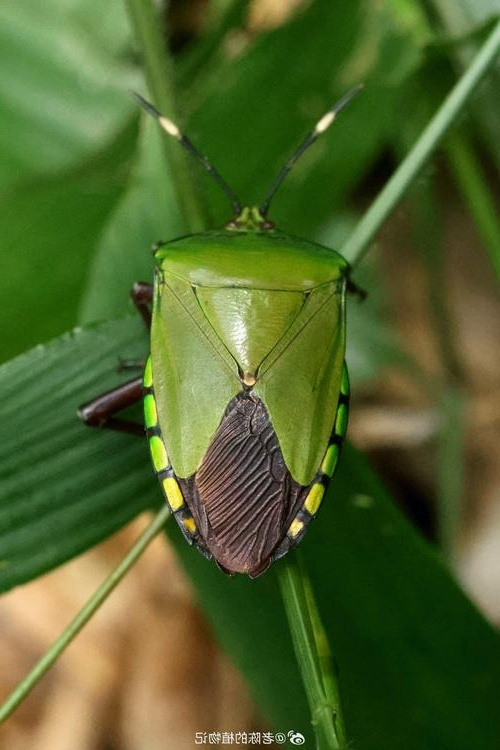Stink_Bug: (116, 141, 379, 545)
